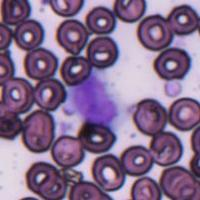L: (71, 70, 122, 125)
